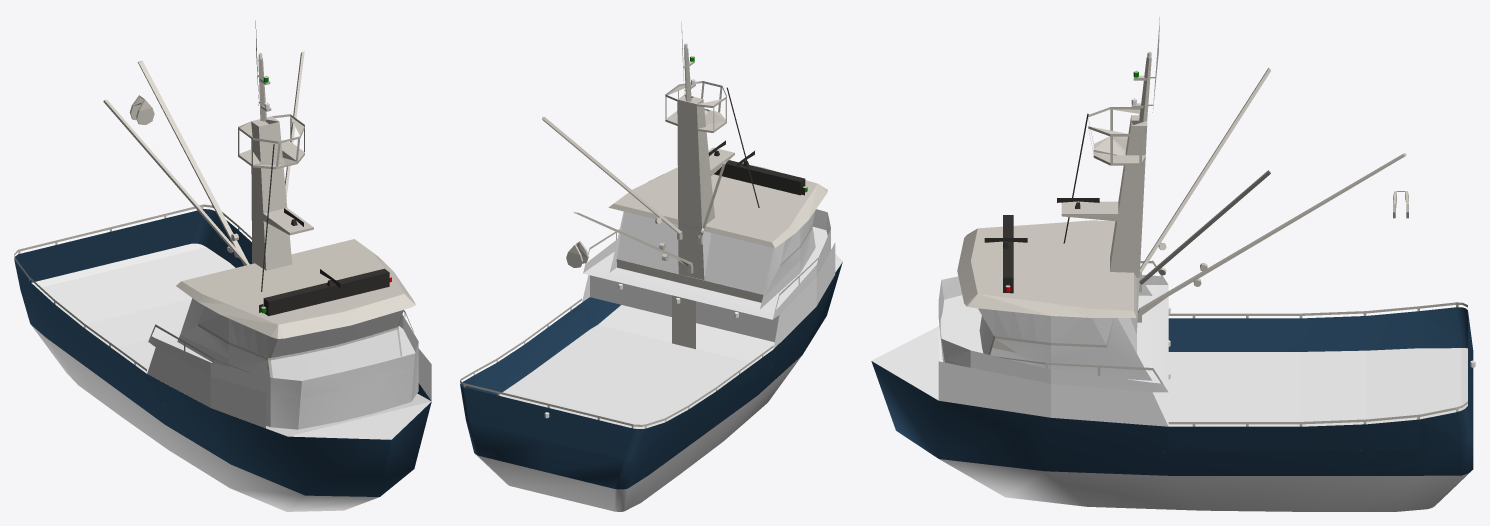
File: Trawler.obj
The picture shows the model from 3 angles, left to right: view 1: azimuth 30°, elevation 25°; view 2: azimuth 150°, elevation 25°; view 3: azimuth 270°, elevation 25°; orthographic projection. The views are drawn at different scales.
Parts seen in each view (by area): view 1: MatrixTransform_Trawler.ac_Hull__Geometry_1, MatrixTransform_Trawler.ac_top__Geometry_0, MatrixTransform_Trawler.ac_Object06__Geometry_0, MatrixTransform_Trawler.ac_Object02__Geometry_0, MatrixTransform_Trawler.ac_top01__Geometry_0, MatrixTransform_Trawler.ac_Hull__Geometry_0, MatrixTransform_Trawler.ac_Object07__Geometry_0, MatrixTransform_Trawler.ac_rail__Geometry_0, MatrixTransform_Trawler.ac_Sqwht01__Geometry_0, MatrixTransform_Trawler.ac_Box__Geometry_0, MatrixTransform_Trawler.ac_Sqdeck01__Geometry_0, MatrixTransform_Trawler.ac_pilothouse__Geometry_0; view 2: MatrixTransform_Trawler.ac_Hull__Geometry_1, MatrixTransform_Trawler.ac_top__Geometry_0, MatrixTransform_Trawler.ac_Object06__Geometry_0, MatrixTransform_Trawler.ac_Object02__Geometry_0, MatrixTransform_Trawler.ac_Hull__Geometry_0, MatrixTransform_Trawler.ac_top01__Geometry_0, MatrixTransform_Trawler.ac_Object01__Geometry_0, MatrixTransform_Trawler.ac_Sqwht01__Geometry_0, MatrixTransform_Trawler.ac_rail__Geometry_0, MatrixTransform_Trawler.ac_Sqdeck01__Geometry_0, MatrixTransform_Trawler.ac_Box__Geometry_0, MatrixTransform_Trawler.ac_Object03__Geometry_0 (+1 smaller); view 3: MatrixTransform_Trawler.ac_Hull__Geometry_1, MatrixTransform_Trawler.ac_top__Geometry_0, MatrixTransform_Trawler.ac_Hull__Geometry_0, MatrixTransform_Trawler.ac_Object06__Geometry_0, MatrixTransform_Trawler.ac_top01__Geometry_0, MatrixTransform_Trawler.ac_Object02__Geometry_0, MatrixTransform_Trawler.ac_rail__Geometry_0, MatrixTransform_Trawler.ac_Sqwht01__Geometry_0, MatrixTransform_Trawler.ac_pilothouse__Geometry_0, MatrixTransform_Trawler.ac_Sqdeck01__Geometry_0, MatrixTransform_Trawler.ac_Box__Geometry_0.
Boxes of the visible parts, x1,y1,x2,y2 form: MatrixTransform_Trawler.ac_Hull__Geometry_1: (14,209,431,496); MatrixTransform_Trawler.ac_top__Geometry_0: (31,243,431,439); MatrixTransform_Trawler.ac_Object06__Geometry_0: (148,298,418,429); MatrixTransform_Trawler.ac_Object02__Geometry_0: (103,51,313,270); MatrixTransform_Trawler.ac_top01__Geometry_0: (182,239,404,324); MatrixTransform_Trawler.ac_Hull__Geometry_0: (31,325,379,511); MatrixTransform_Trawler.ac_Object07__Geometry_0: (271,310,403,380); MatrixTransform_Trawler.ac_rail__Geometry_0: (147,347,431,428); MatrixTransform_Trawler.ac_Sqwht01__Geometry_0: (176,253,415,377); MatrixTransform_Trawler.ac_Box__Geometry_0: (263,268,389,316); MatrixTransform_Trawler.ac_Sqdeck01__Geometry_0: (14,20,413,372); MatrixTransform_Trawler.ac_pilothouse__Geometry_0: (198,306,277,357); MatrixTransform_Trawler.ac_Hull__Geometry_1: (460,262,842,489); MatrixTransform_Trawler.ac_top__Geometry_0: (499,249,842,428); MatrixTransform_Trawler.ac_Object06__Geometry_0: (583,209,830,342); MatrixTransform_Trawler.ac_Object02__Geometry_0: (542,47,734,267); MatrixTransform_Trawler.ac_Hull__Geometry_0: (475,356,801,511); MatrixTransform_Trawler.ac_top01__Geometry_0: (614,164,817,242); MatrixTransform_Trawler.ac_Object01__Geometry_0: (616,211,773,294); MatrixTransform_Trawler.ac_Sqwht01__Geometry_0: (608,174,827,302); MatrixTransform_Trawler.ac_rail__Geometry_0: (582,242,835,348); MatrixTransform_Trawler.ac_Sqdeck01__Geometry_0: (460,22,825,428); MatrixTransform_Trawler.ac_Box__Geometry_0: (714,160,805,195); MatrixTransform_Trawler.ac_Object03__Geometry_0: (672,295,695,349); MatrixTransform_Trawler.ac_Hull__Geometry_1: (871,307,1473,475); MatrixTransform_Trawler.ac_top__Geometry_0: (871,326,1467,426); MatrixTransform_Trawler.ac_Hull__Geometry_0: (939,459,1469,511); MatrixTransform_Trawler.ac_Object06__Geometry_0: (938,275,1168,392); MatrixTransform_Trawler.ac_top01__Geometry_0: (971,220,1133,310); MatrixTransform_Trawler.ac_Object02__Geometry_0: (1061,57,1408,315); MatrixTransform_Trawler.ac_rail__Geometry_0: (938,361,1168,426); MatrixTransform_Trawler.ac_Sqwht01__Geometry_0: (957,228,1141,354); MatrixTransform_Trawler.ac_pilothouse__Geometry_0: (978,308,1105,344); MatrixTransform_Trawler.ac_Sqdeck01__Geometry_0: (992,17,1467,426); MatrixTransform_Trawler.ac_Box__Geometry_0: (1003,215,1013,293).
Size of the model in its own units: 12 by 24.46 by 28.27.
